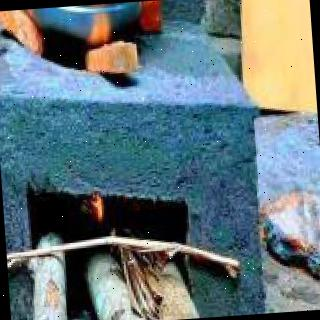fire: (83, 2, 121, 52), (88, 178, 110, 224)
